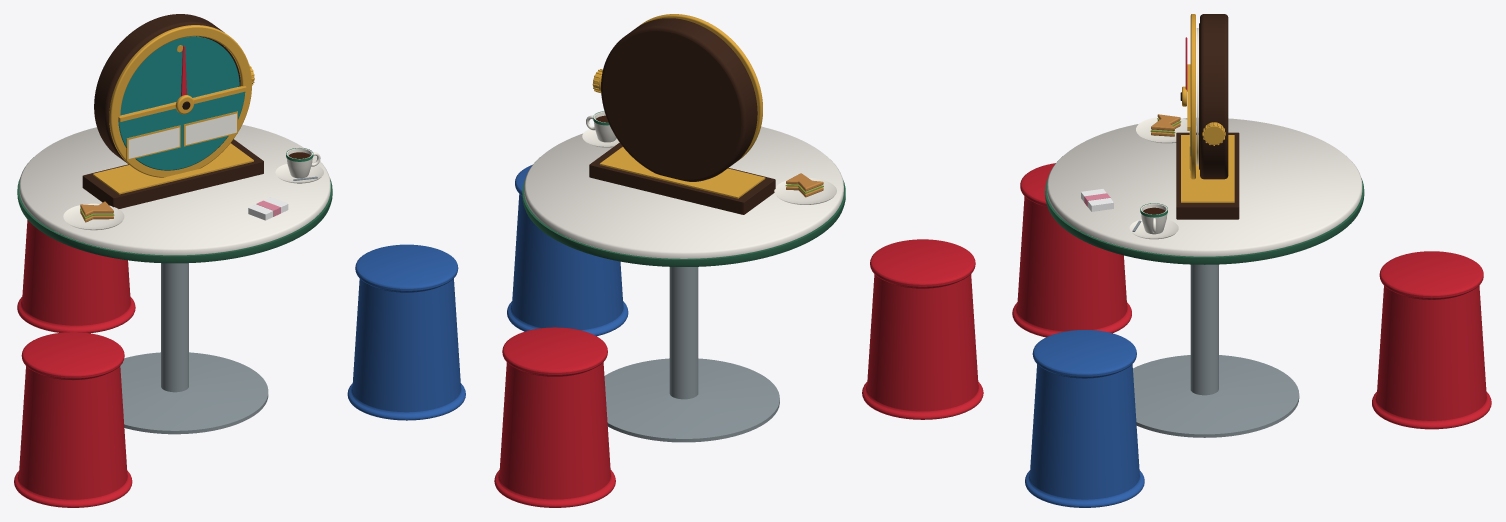
The model's file is agak-scene.glb.
3 views of the same model, side by side, from view 1: azimuth 30°, elevation 25°; view 2: azimuth 150°, elevation 25°; view 3: azimuth 270°, elevation 25° (orthographic). The views are drawn at different scales.
Visible parts, largest first — view 1: TableTop, StoolB, StoolA, TableFoot, StoolC, Shutter, Bezel, LowerPanel, TableLeg, Housing, Base, TableEdge (+6 smaller); view 2: TableTop, Housing, StoolC, StoolA, TableFoot, StoolB, TableLeg, Base, TableEdge, BaseTrim, Bezel, Plate; view 3: TableTop, StoolC, StoolB, StoolA, TableFoot, Housing, TableLeg, TableEdge, BaseTrim, Base, Bezel, Plate.
Part boxes in pixels (left/top/right/bottom): TableTop: left=19, top=124, right=330, bottom=255; StoolB: left=347, top=244, right=465, bottom=420; StoolA: left=14, top=332, right=132, bottom=507; TableFoot: left=120, top=352, right=268, bottom=434; StoolC: left=17, top=219, right=135, bottom=333; Shutter: left=120, top=36, right=239, bottom=115; Bezel: left=109, top=25, right=251, bottom=177; LowerPanel: left=118, top=91, right=245, bottom=170; TableLeg: left=161, top=263, right=188, bottom=392; Housing: left=94, top=14, right=240, bottom=164; Base: left=82, top=139, right=263, bottom=208; TableEdge: left=17, top=178, right=332, bottom=263; TableTop: left=524, top=126, right=843, bottom=258; Housing: left=601, top=18, right=757, bottom=181; StoolC: left=494, top=327, right=615, bottom=507; StoolA: left=862, top=239, right=983, bottom=419; TableFoot: left=604, top=358, right=779, bottom=442; StoolB: left=507, top=165, right=628, bottom=336; TableLeg: left=669, top=267, right=698, bottom=399; Base: left=589, top=142, right=775, bottom=214; TableEdge: left=522, top=179, right=845, bottom=266; BaseTrim: left=599, top=147, right=765, bottom=198; Bezel: left=638, top=14, right=762, bottom=161; Plate: left=774, top=178, right=836, bottom=204; TableTop: left=1047, top=117, right=1362, bottom=256; StoolC: left=1372, top=251, right=1491, bottom=429; StoolB: left=1025, top=330, right=1144, bottom=507; StoolA: left=1012, top=163, right=1131, bottom=337; TableFoot: left=1133, top=355, right=1299, bottom=437; Housing: left=1200, top=14, right=1228, bottom=179; TableLeg: left=1190, top=264, right=1218, bottom=395; TableEdge: left=1045, top=178, right=1364, bottom=264; BaseTrim: left=1181, top=135, right=1234, bottom=202; Base: left=1176, top=132, right=1239, bottom=219; Bezel: left=1190, top=14, right=1195, bottom=179; Plate: left=1136, top=117, right=1196, bottom=143.
Size of the model in its own units: 1.64 by 1.32 by 1.52.
